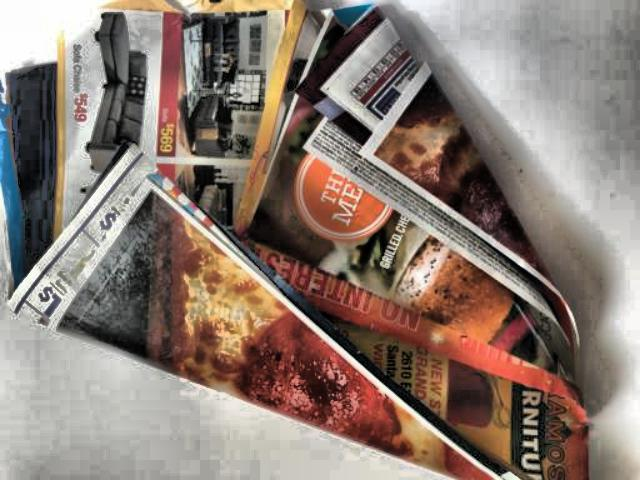Paper: (0, 0, 597, 480)
